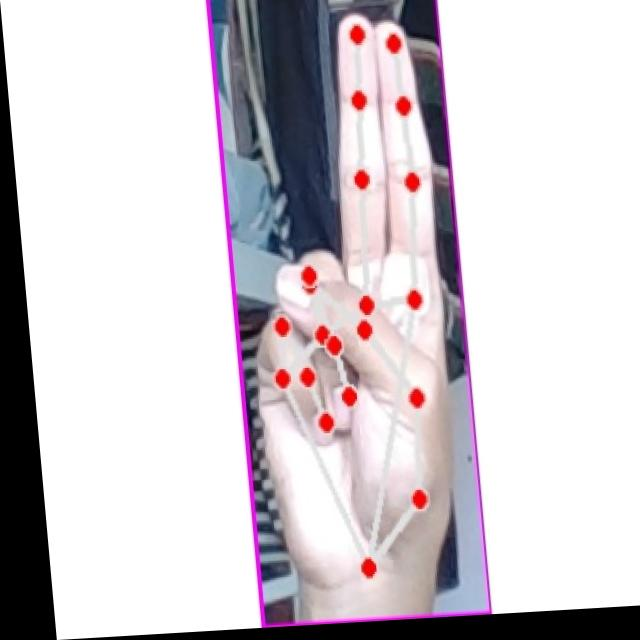U: (220, 9, 468, 595)
